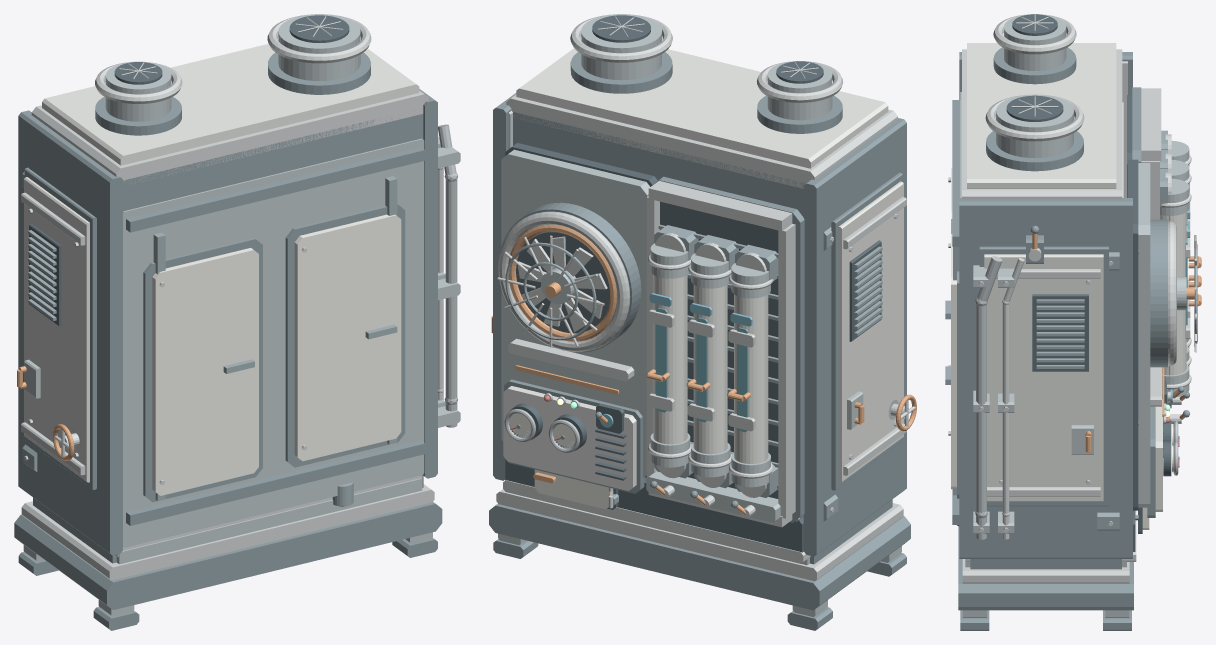
File: air_recycler_martian_hailmary.glb
3 renders of one model, left to right at view 1: azimuth 30°, elevation 25°; view 2: azimuth 150°, elevation 25°; view 3: azimuth 270°, elevation 25°, orthographic. The views are drawn at different scales.
Parts seen in each view (by area): view 1: Static__graphite, Static__cream, Static__gunmetal, Static__bone, Static__steel, Static__darksteel, Static__shadow, Static__copper; view 2: Static__graphite, Static__steel, Static__bone, Static__gunmetal, Static__shadow, Static__darksteel, Filter_Cartridge_A__filter, Filter_Cartridge_C__filter, Filter_Cartridge_B__filter, Static__ochre, Fan_Rotor__steel, Filter_Cartridge_C__gunmetal (+13 smaller); view 3: Static__graphite, Static__bone, Static__steel, Static__gunmetal, Static__shadow, Static__darksteel, Static__copper, Static__cream, Filter_Cartridge_C__filter, Filter_Cartridge_C__gunmetal, Filter_Cartridge_C__steel, Filter_Cartridge_B__gunmetal (+1 smaller).
Boxes of the visible parts, <box> form: Static__graphite: <box>14,52,442,630</box>; Static__cream: <box>152,214,401,495</box>; Static__gunmetal: <box>23,14,460,616</box>; Static__bone: <box>24,44,419,482</box>; Static__steel: <box>21,15,458,580</box>; Static__darksteel: <box>22,171,397,506</box>; Static__shadow: <box>29,15,349,326</box>; Static__copper: <box>438,124,457,427</box>; Static__graphite: <box>489,52,910,630</box>; Static__steel: <box>496,14,906,581</box>; Static__bone: <box>503,48,903,515</box>; Static__gunmetal: <box>498,14,901,616</box>; Static__shadow: <box>505,15,881,552</box>; Static__darksteel: <box>505,224,882,521</box>; Filter_Cartridge_A__filter: <box>734,294,768,463</box>; Filter_Cartridge_C__filter: <box>653,275,687,444</box>; Filter_Cartridge_B__filter: <box>693,285,727,454</box>; Static__ochre: <box>491,224,864,424</box>; Fan_Rotor__steel: <box>517,236,607,332</box>; Filter_Cartridge_C__gunmetal: <box>650,243,690,467</box>; Static__graphite: <box>952,47,1179,630</box>; Static__bone: <box>967,43,1162,511</box>; Static__steel: <box>948,15,1196,583</box>; Static__gunmetal: <box>960,14,1169,617</box>; Static__shadow: <box>1006,14,1171,551</box>; Static__darksteel: <box>945,130,1197,530</box>; Static__copper: <box>975,256,1178,539</box>; Static__cream: <box>951,168,956,489</box>; Filter_Cartridge_C__filter: <box>1160,212,1186,375</box>; Filter_Cartridge_C__gunmetal: <box>1160,178,1189,396</box>; Filter_Cartridge_C__steel: <box>1161,192,1191,389</box>; Filter_Cartridge_B__gunmetal: <box>1171,159,1189,367</box>.
Bounding box in the file's own units: 1.48 × 1.89 × 0.8974.
